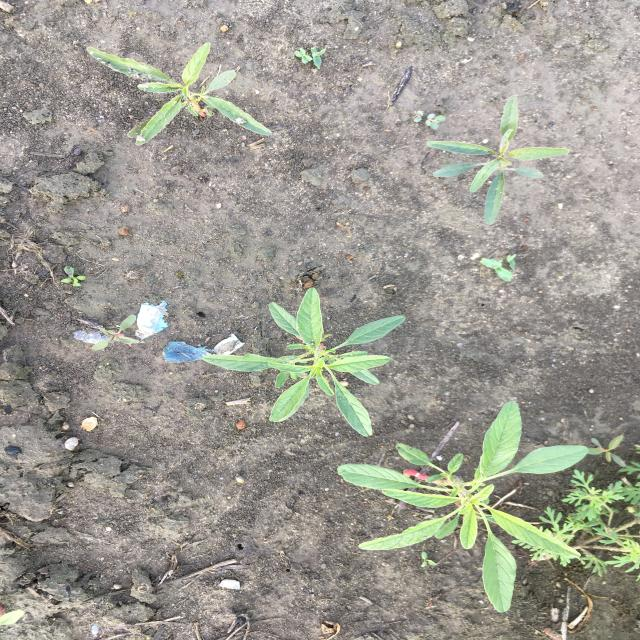Ragweed: (508, 465, 638, 580)
Waterhemp: (334, 402, 590, 614), (199, 286, 408, 438), (85, 42, 276, 148), (426, 94, 573, 226)
